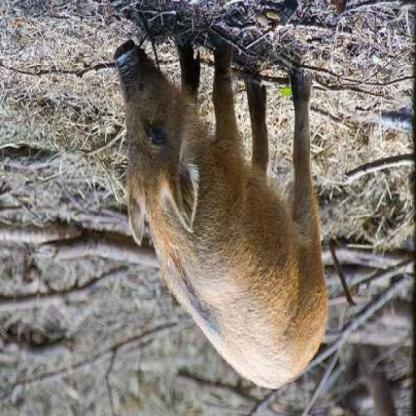boar: (82, 26, 374, 374)
